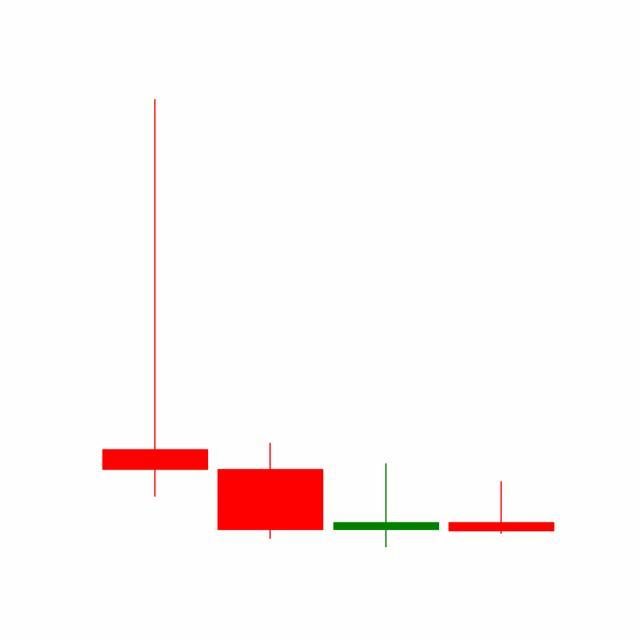Gravestone Doji: (329, 463, 445, 550)
